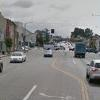Bus: (73, 39, 89, 62)
